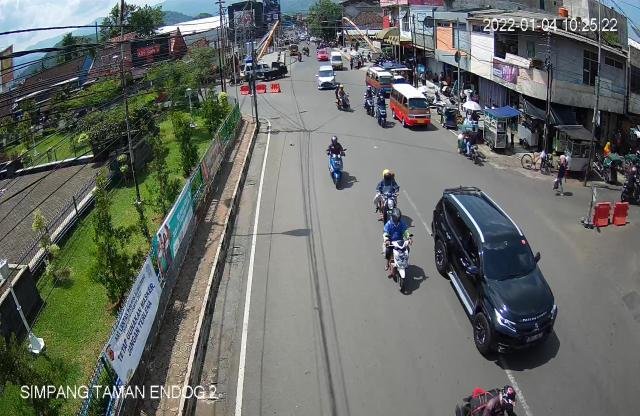Becak: (454, 121, 486, 168)
Mobil: (425, 186, 566, 366), (390, 84, 433, 133)
Motor: (380, 209, 418, 296), (374, 165, 409, 231), (320, 131, 356, 191), (451, 385, 518, 416), (372, 89, 391, 129), (333, 84, 355, 111)
